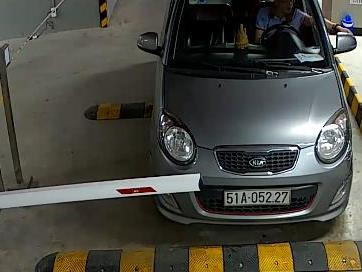car: (223, 189, 293, 208)
